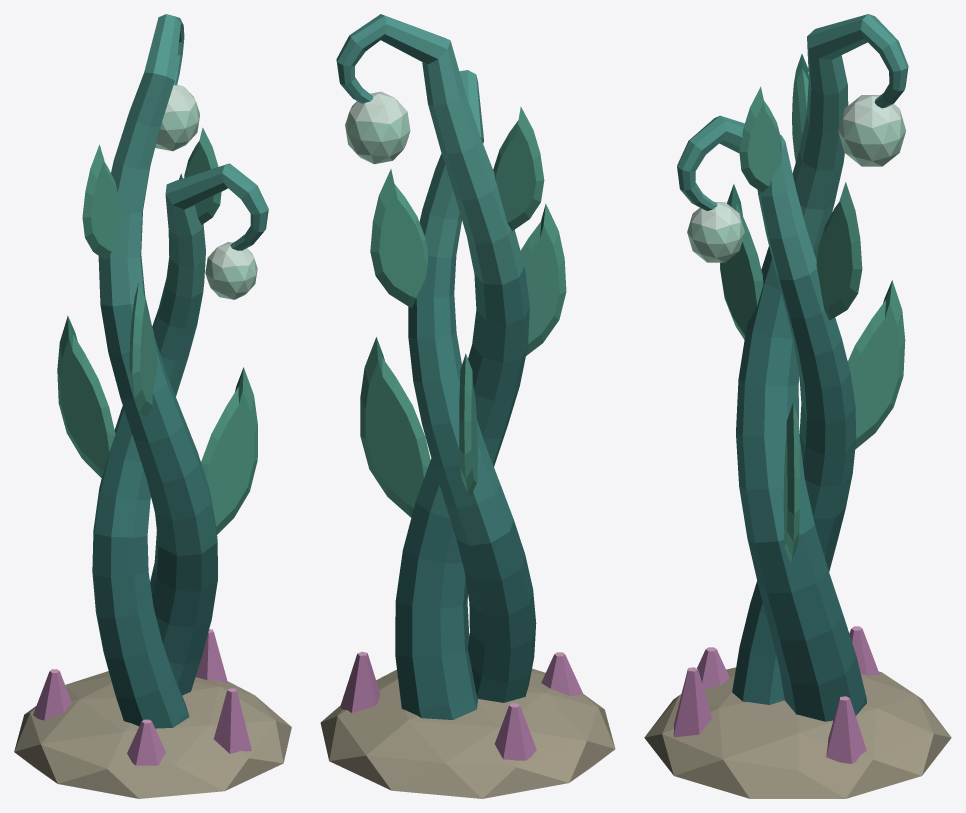
File: Leviathan_Kelp_Tree.glb
The picture shows the model from 3 angles, left to right: view 1: azimuth 30°, elevation 25°; view 2: azimuth 150°, elevation 25°; view 3: azimuth 270°, elevation 25°; orthographic projection. The views are drawn at different scales.
Parts seen in each view (by area): view 1: Leviathan_Kelp_Tree; view 2: Leviathan_Kelp_Tree; view 3: Leviathan_Kelp_Tree.
Boxes of the visible parts, <box> form: Leviathan_Kelp_Tree: <box>14,14,291,798</box>; Leviathan_Kelp_Tree: <box>320,14,615,798</box>; Leviathan_Kelp_Tree: <box>644,14,951,798</box>.
Size of the model in its own units: 4.73 by 13.52 by 4.96.
